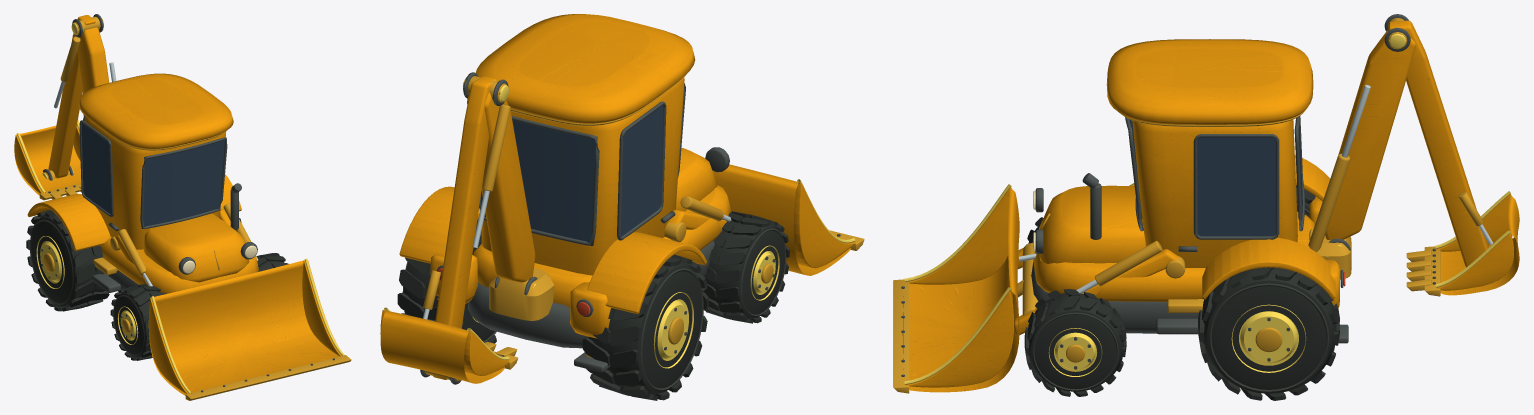
File: dirty.glb
3 views of the same model, side by side, from view 1: azimuth 30°, elevation 25°; view 2: azimuth 150°, elevation 25°; view 3: azimuth 270°, elevation 25° (orthographic). The views are drawn at different scales.
Parts seen in each view (by area): view 1: Dirty_Worn_surface, FrontBucketShell_Worn_surface, Windshield_single_curved, Wheel_Rear_L_Charcoal_surface, Dirty_Dark_surface, RearBucketShell_Worn_surface, Rear curved descending stick, Wheel_Front_L_Charcoal_surface, Left_side_window, Rear tapered main boom, FrontBucket_hardened_cutting_blade, Yellow wheel rim (+8 smaller); view 2: Dirty_Worn_surface, Wheel_Rear_L_Charcoal_surface, Rear_window, Dirty_Dark_surface, Rear curved descending stick, FrontBucketShell_Worn_surface, Wheel_Front_L_Charcoal_surface, RearBucketShell_Worn_surface, Rear tapered main boom, Left_side_window, Rear swing casting, Wheel_Rear_R_Charcoal_surface (+7 smaller); view 3: Dirty_Worn_surface, FrontBucketShell_Worn_surface, Wheel_Rear_R_Charcoal_surface, Right_side_window, Rear tapered main boom, Dirty_Dark_surface, Wheel_Front_R_Charcoal_surface, Rear curved descending stick, RearBucketShell_Worn_surface, Yellow wheel rim.002, FrontBucket_hardened_cutting_blade, RearBucketShell_Ochre_surface (+12 smaller).
Part boxes in pixels (x1,y1,x2,y2): Dirty_Worn_surface: (27, 73, 258, 293); FrontBucketShell_Worn_surface: (148, 260, 345, 395); Windshield_single_curved: (143, 140, 224, 226); Wheel_Rear_L_Charcoal_surface: (26, 209, 109, 311); Dirty_Dark_surface: (79, 114, 257, 292); RearBucketShell_Worn_surface: (14, 120, 81, 195); Rear curved descending stick: (48, 15, 95, 178); Wheel_Front_L_Charcoal_surface: (110, 284, 166, 360); Left_side_window: (81, 123, 111, 214); Rear tapered main boom: (75, 27, 109, 93); FrontBucket_hardened_cutting_blade: (185, 355, 351, 400); Yellow wheel rim: (36, 236, 64, 288); Dirty_Worn_surface: (399, 14, 731, 338); Wheel_Rear_L_Charcoal_surface: (582, 254, 708, 400); Rear_window: (481, 120, 597, 242); Dirty_Dark_surface: (427, 83, 729, 372); Rear curved descending stick: (432, 76, 496, 379); FrontBucketShell_Worn_surface: (712, 164, 855, 275); Wheel_Front_L_Charcoal_surface: (703, 211, 789, 323); RearBucketShell_Worn_surface: (380, 310, 509, 383); Rear tapered main boom: (467, 92, 535, 282); Left_side_window: (620, 105, 663, 236); Rear swing casting: (489, 268, 554, 320); Wheel_Rear_R_Charcoal_surface: (397, 220, 496, 343); Dirty_Worn_surface: (1033, 39, 1339, 308); FrontBucketShell_Worn_surface: (902, 187, 1019, 392); Wheel_Rear_R_Charcoal_surface: (1198, 267, 1339, 400); Right_side_window: (1197, 137, 1275, 236); Rear tapered main boom: (1325, 30, 1415, 240); Dirty_Dark_surface: (1031, 116, 1348, 343); Wheel_Front_R_Charcoal_surface: (1024, 289, 1126, 396); Rear curved descending stick: (1389, 20, 1488, 267); RearBucketShell_Worn_surface: (1434, 194, 1519, 295); Yellow wheel rim.002: (1231, 304, 1306, 372); FrontBucket_hardened_cutting_blade: (893, 279, 909, 393); RearBucketShell_Ochre_surface: (1406, 246, 1440, 296).
Bounding box in the file's own units: 3.53 × 4.61 × 8.03.
Materials: 10 (1 with a texture image).
